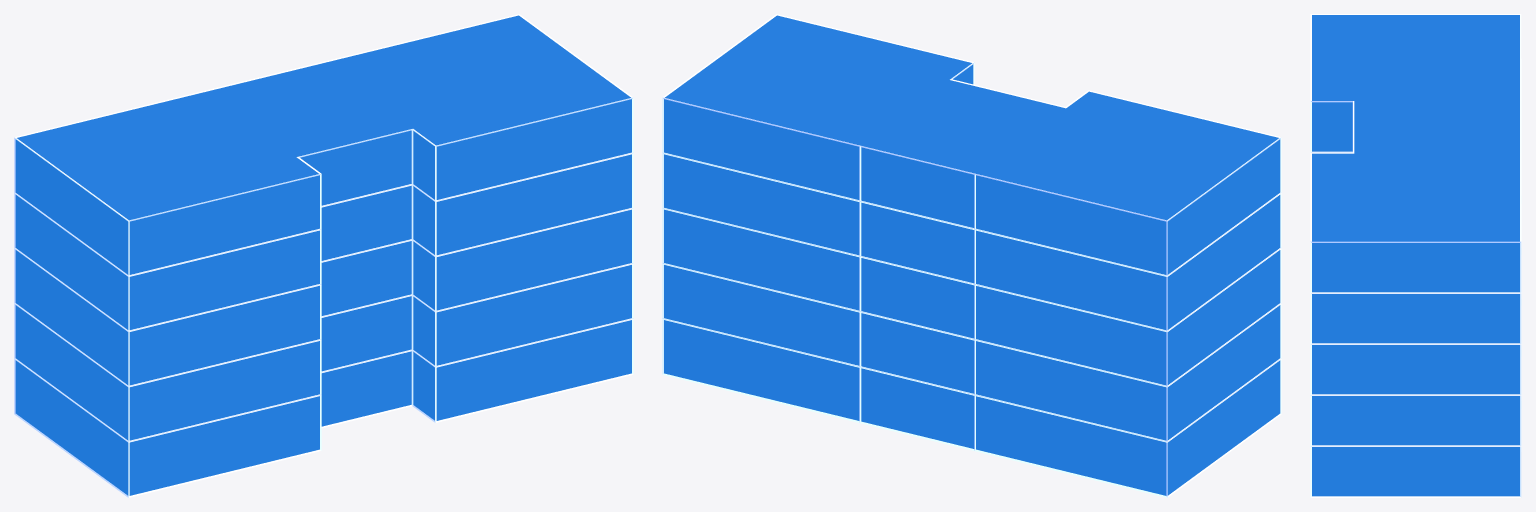
Rendered from lou.glb.
3 views of the same model, side by side, from view 1: azimuth 30°, elevation 25°; view 2: azimuth 150°, elevation 25°; view 3: azimuth 270°, elevation 25° (orthographic). The views are drawn at different scales.
Parts seen in each view (by area): view 1: Cube.006, Cube.004, Cube.002, Cube.003, Cube.005; view 2: Cube.006, Cube.002, Cube.003, Cube.004, Cube.005; view 3: Cube.006, Cube.005, Cube.002, Cube.004, Cube.003.
Part boxes in pixels (x1,y1,x2,y2): Cube.006: (14, 14, 633, 276); Cube.004: (14, 208, 633, 387); Cube.002: (14, 318, 633, 497); Cube.003: (14, 263, 633, 442); Cube.005: (14, 153, 633, 331); Cube.006: (662, 14, 1281, 276); Cube.002: (662, 318, 1281, 497); Cube.003: (662, 263, 1281, 442); Cube.004: (662, 208, 1281, 387); Cube.005: (662, 153, 1281, 332); Cube.006: (1310, 14, 1521, 293); Cube.005: (1310, 152, 1521, 344); Cube.002: (1310, 357, 1521, 497); Cube.004: (1310, 255, 1521, 395); Cube.003: (1310, 306, 1521, 446).
Bounding box in the file's own units: 20.04 × 10.52 × 7.85.
